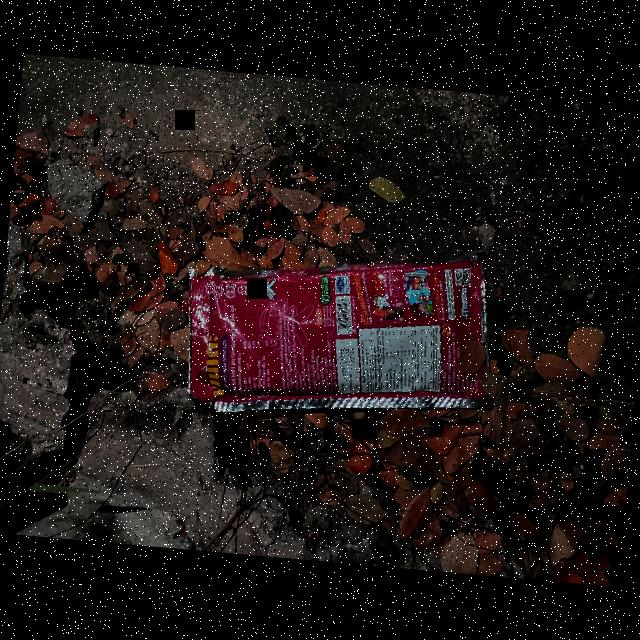snack_bag: (173, 220, 507, 440)
